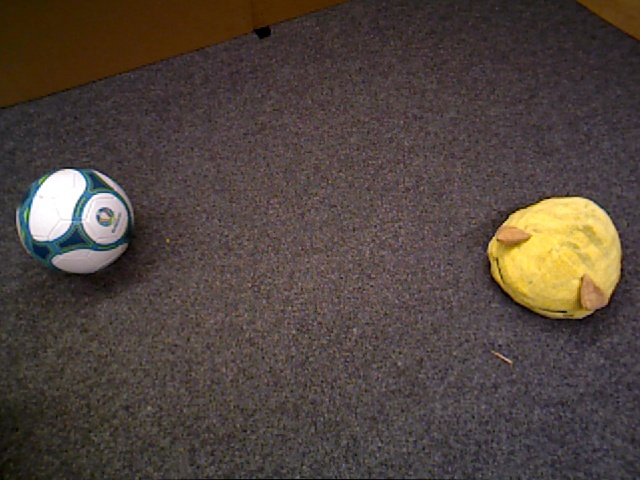grasp: (488, 197, 622, 322)
kick: (16, 166, 134, 276)
